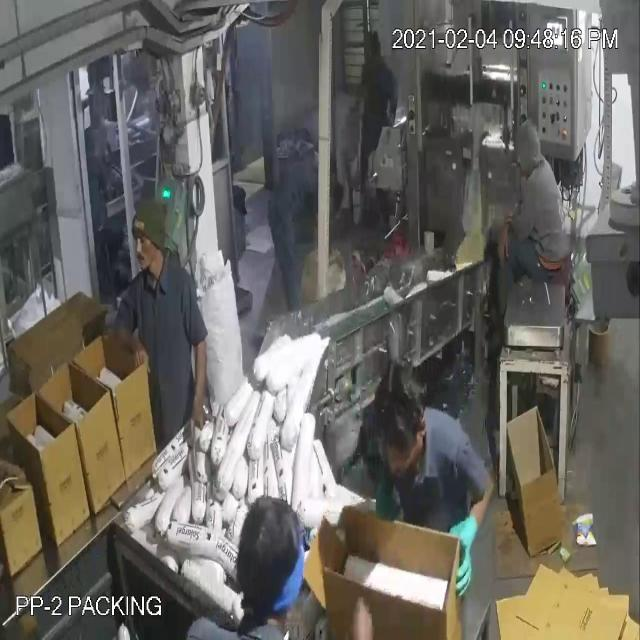gloves: (444, 510, 486, 604)
no-gloves: (180, 323, 214, 437), (110, 307, 152, 382), (488, 221, 518, 271)
